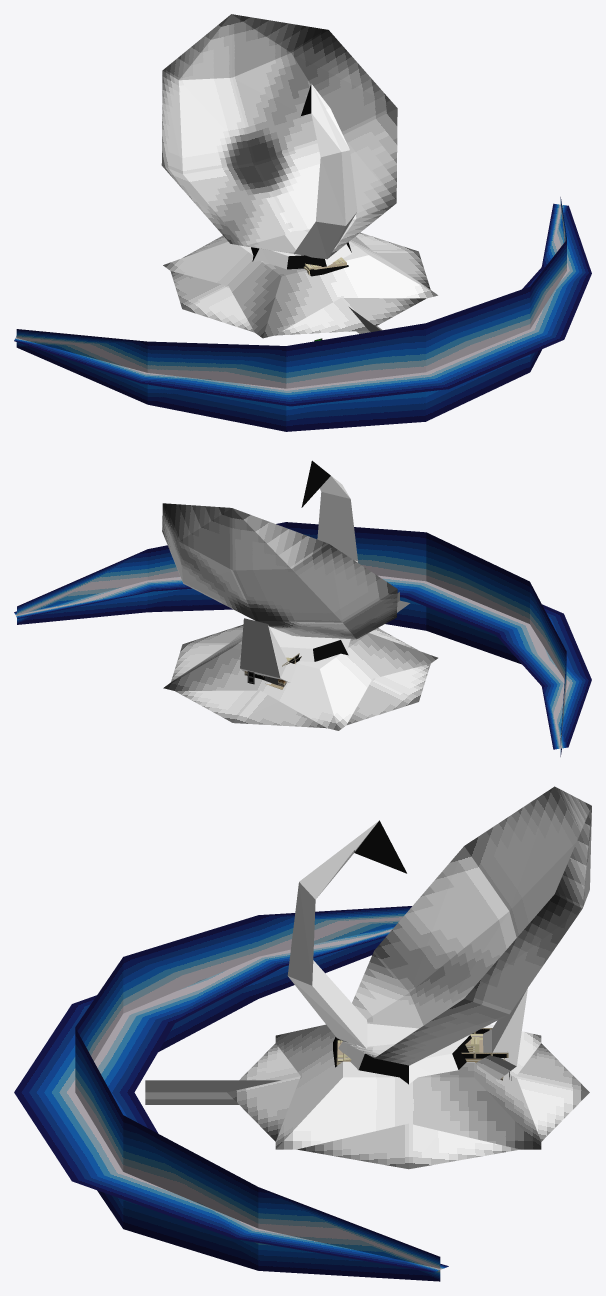
File: v82_xanadu_rv.obj
3 renders of one model, top to bottom at view 1: azimuth 30°, elevation 25°; view 2: azimuth 150°, elevation 25°; view 3: azimuth 270°, elevation 25°, orthographic. The views are drawn at different scales.
Visible parts, largest first — view 1: v82_xanadu_rv_tmd_024, v82_xanadu_rv_tmd_026, v82_xanadu_rv_tmd_023, v82_xanadu_rv_tmd_025; view 2: v82_xanadu_rv_tmd_026, v82_xanadu_rv_tmd_024, v82_xanadu_rv_tmd_023, v82_xanadu_rv_tmd_025; view 3: v82_xanadu_rv_tmd_026, v82_xanadu_rv_tmd_024, v82_xanadu_rv_tmd_023, v82_xanadu_rv_tmd_025, v82_xanadu_rv_tmd_027.
Part boxes in pixels (bbox=[...]): v82_xanadu_rv_tmd_024: bbox=[161, 14, 397, 259]; v82_xanadu_rv_tmd_026: bbox=[14, 197, 591, 431]; v82_xanadu_rv_tmd_023: bbox=[163, 236, 437, 338]; v82_xanadu_rv_tmd_025: bbox=[170, 230, 430, 335]; v82_xanadu_rv_tmd_026: bbox=[14, 522, 591, 756]; v82_xanadu_rv_tmd_024: bbox=[162, 460, 397, 682]; v82_xanadu_rv_tmd_023: bbox=[163, 620, 437, 730]; v82_xanadu_rv_tmd_025: bbox=[171, 625, 430, 728]; v82_xanadu_rv_tmd_026: bbox=[14, 906, 448, 1281]; v82_xanadu_rv_tmd_024: bbox=[287, 786, 591, 1079]; v82_xanadu_rv_tmd_023: bbox=[275, 1024, 541, 1149]; v82_xanadu_rv_tmd_025: bbox=[227, 1023, 589, 1169]; v82_xanadu_rv_tmd_027: bbox=[145, 1080, 280, 1104].
Size of the model in its own units: 4.99 by 2.35 by 3.39.
Materials: 47 (37 with a texture image).
